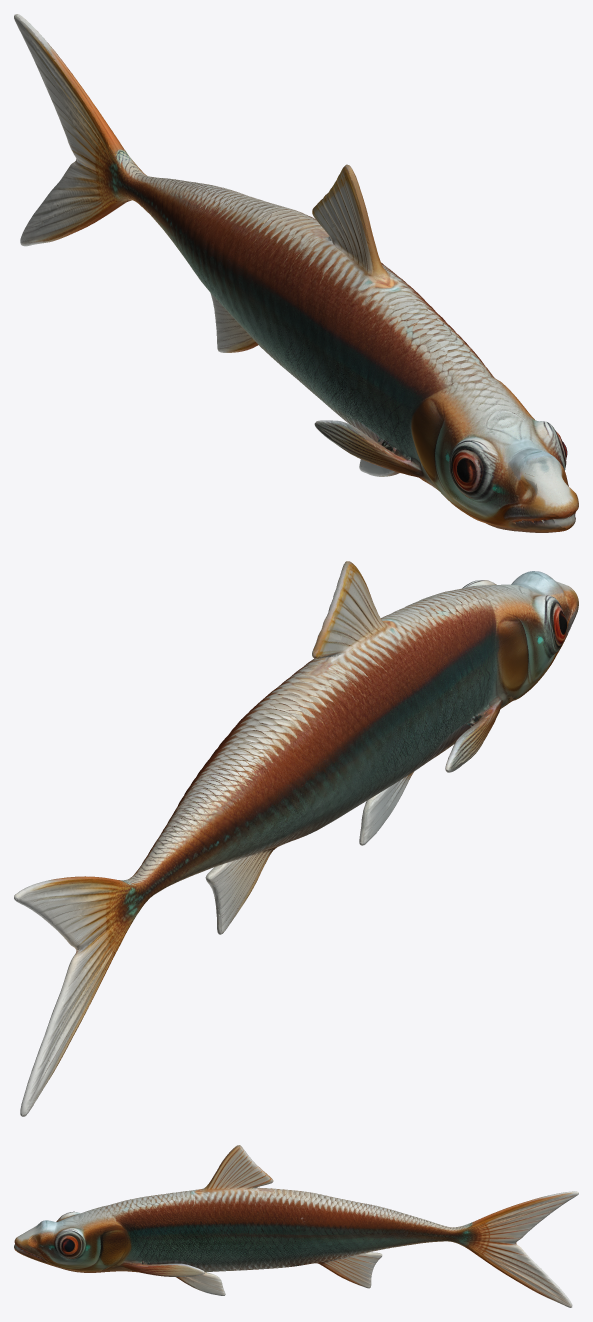
The model's file is fish_copper_sprat.glb.
The picture shows the model from 3 angles, top to bottom: view 1: azimuth 30°, elevation 25°; view 2: azimuth 150°, elevation 25°; view 3: azimuth 270°, elevation 25°; orthographic projection. The views are drawn at different scales.
Size of the model in its own units: 0.2684 by 0.6031 by 1.9.
1 material, 1 textured.
